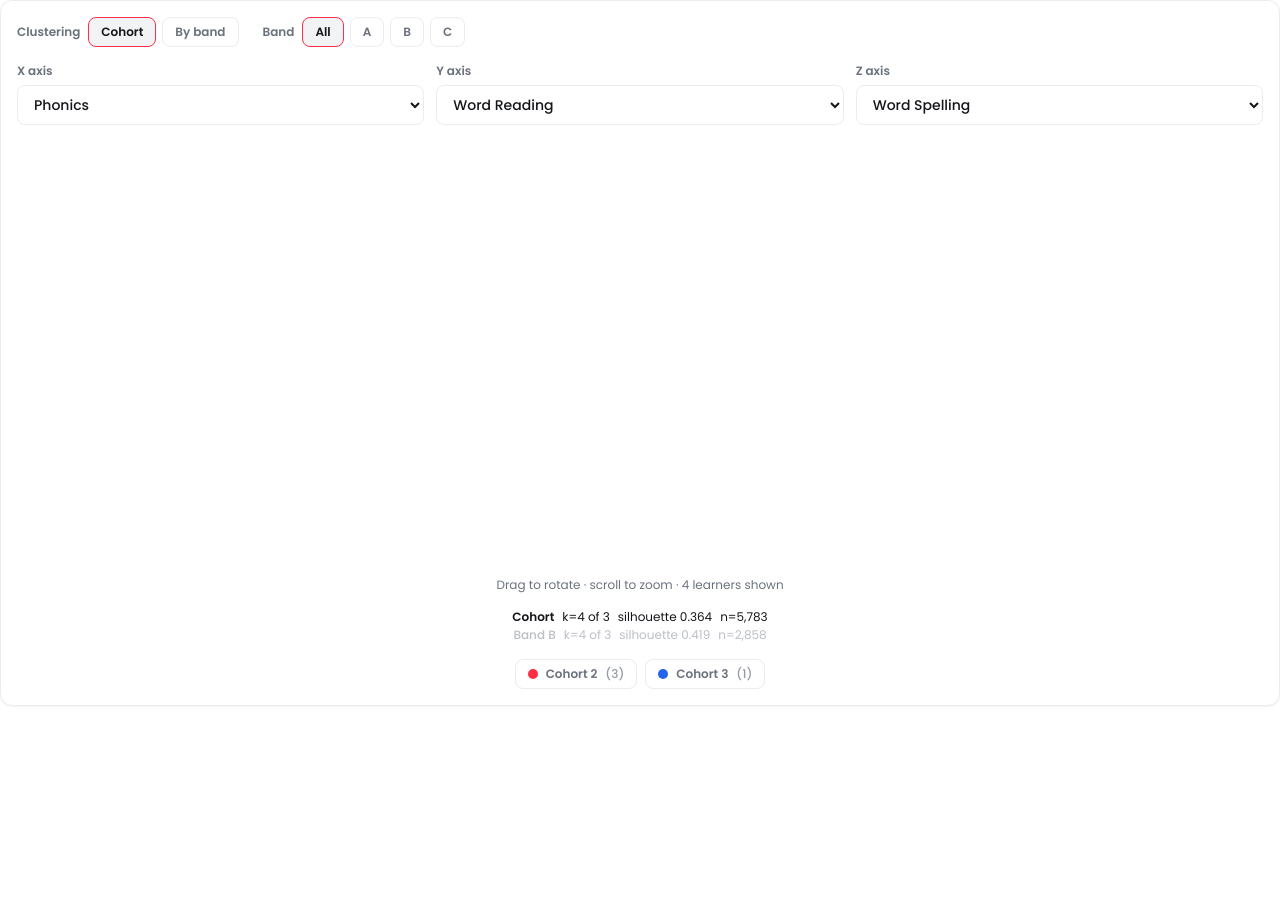
Scenario: UT-2.31: drops unclustered learners from the plot but says how many, per scope
Expected: the text "hidden" is not shown
Click the radio button labelled "By band" at (200, 32), box [162,17,238,47]
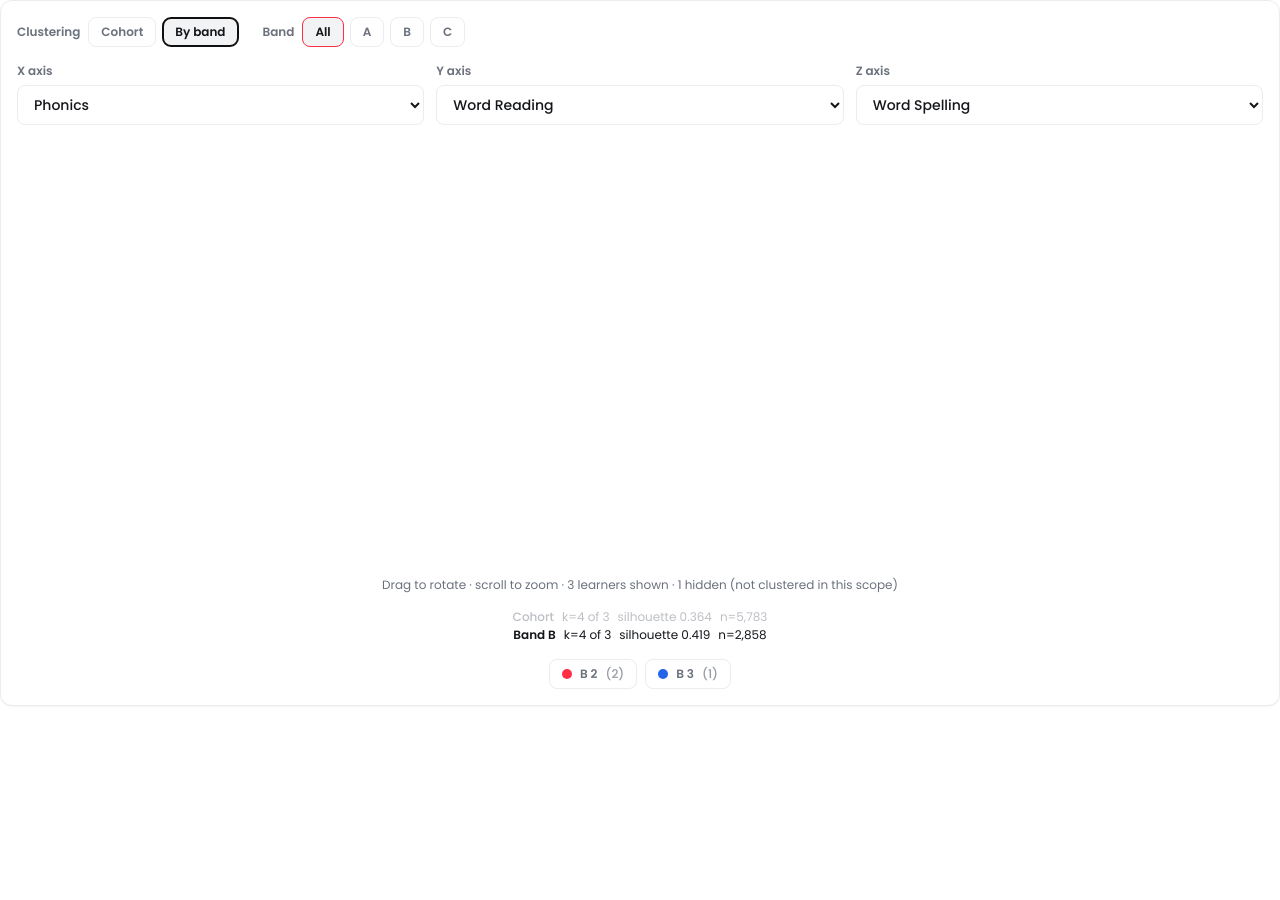
Expected: the text "1 hidden (not clustered in this scope)" is shown, [669,576,898,593]
